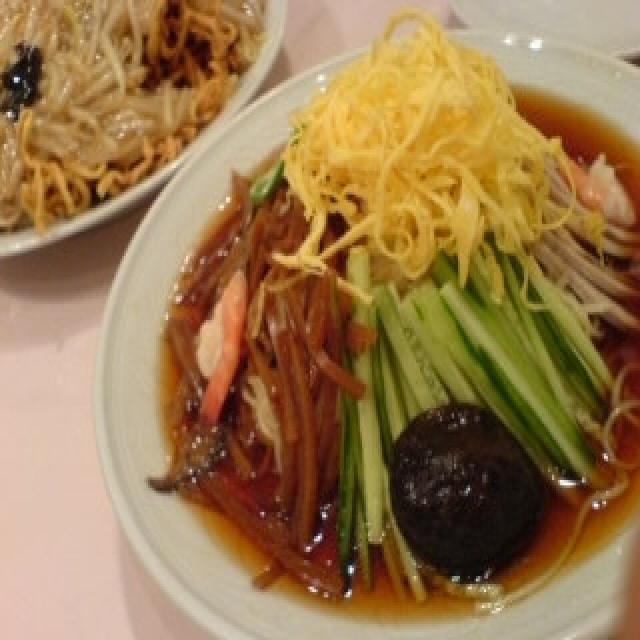面条主食: (84, 10, 640, 640)
